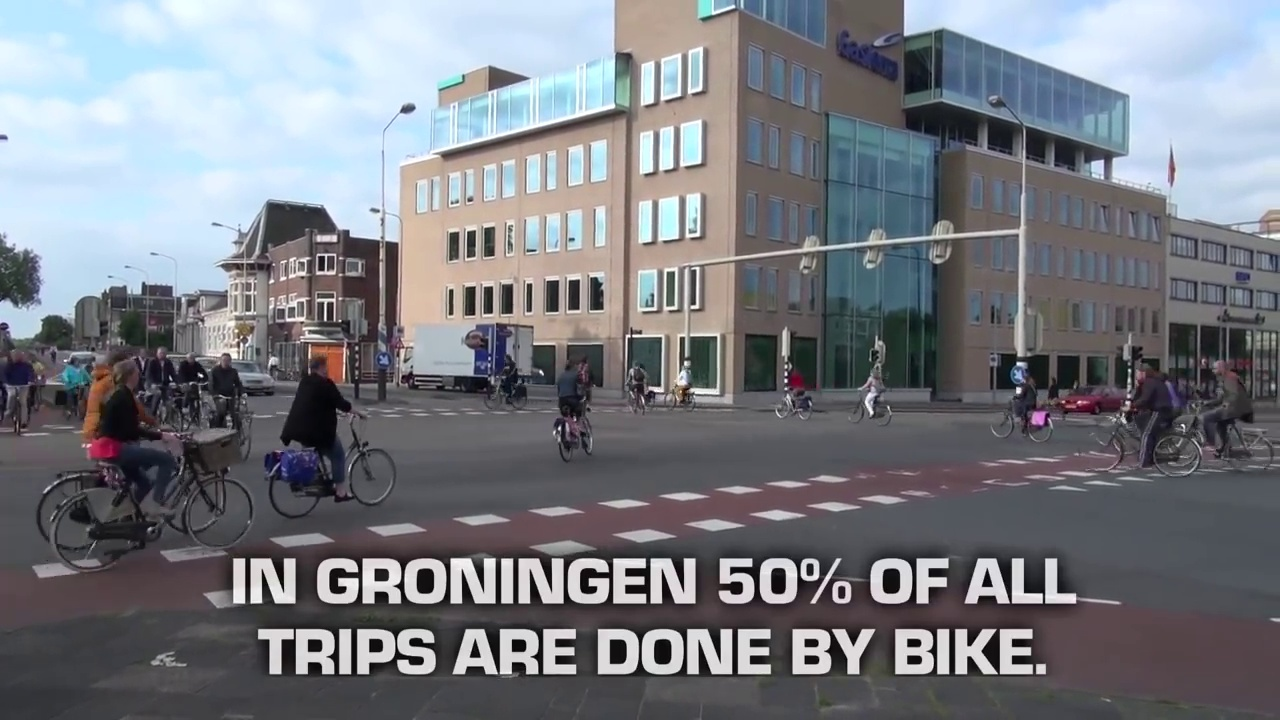cyclist_back: (551, 358, 599, 461), (623, 361, 647, 413)
cyclist_front: (209, 349, 256, 460), (172, 351, 215, 439), (145, 345, 181, 434), (5, 342, 36, 424)
cyclist_side: (50, 356, 254, 567), (265, 350, 400, 524), (1081, 345, 1197, 474), (1166, 348, 1271, 467), (989, 361, 1051, 445), (848, 357, 896, 429), (481, 351, 533, 412), (773, 358, 812, 431), (664, 361, 698, 411)
